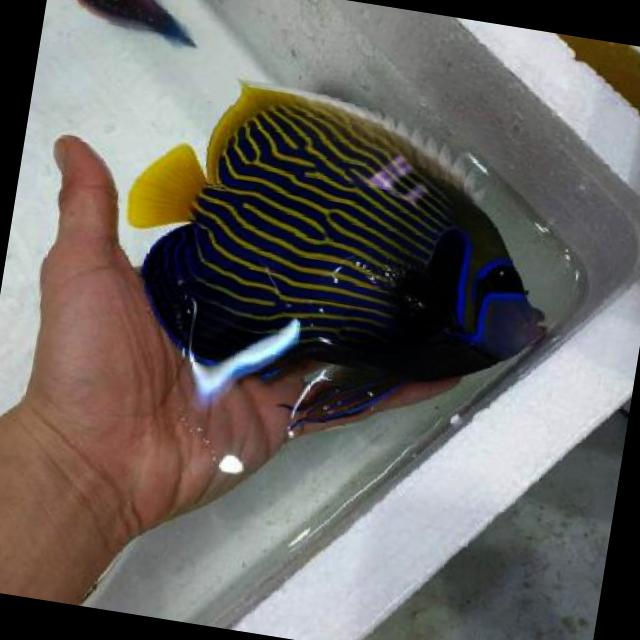AngelFish: (102, 64, 578, 464)
